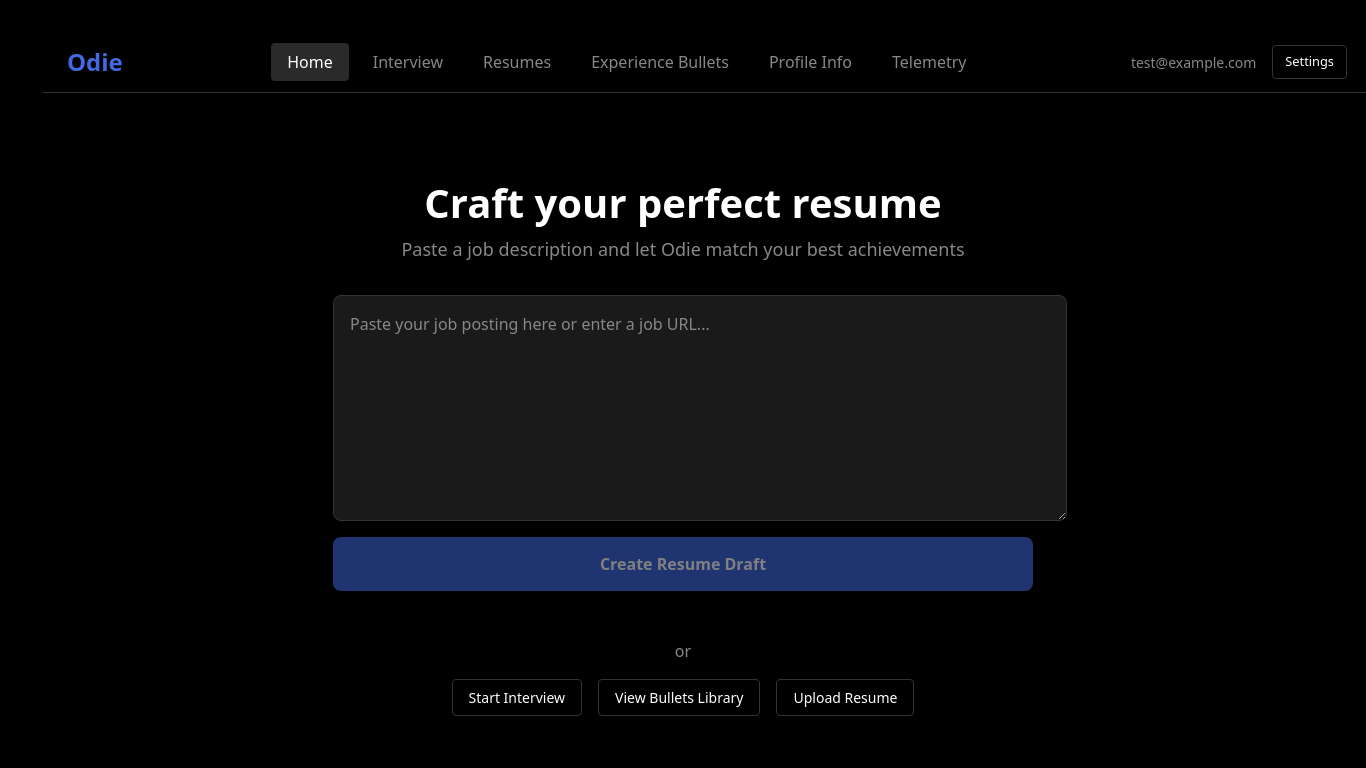
Test case: HomePage › shows error when URL fetch fails
The width and height of the screenshot is (1366, 768).
Step 1. Type "https://greenhouse.io/jobs/123" into the text box with test id "jd-input" → (700, 408), box [333, 294, 1067, 520]
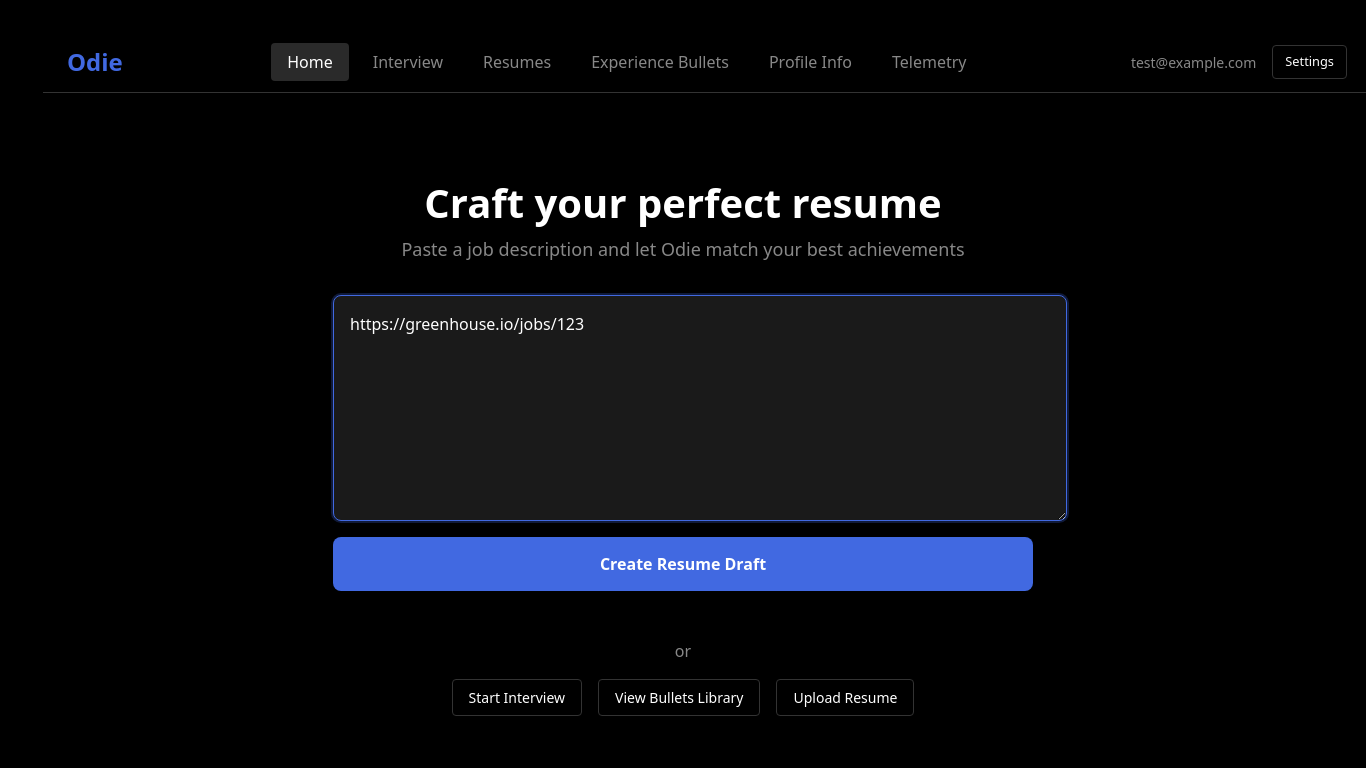
Step 2. Click the button with test id "jd-submit" → (683, 564), box [333, 536, 1033, 590]
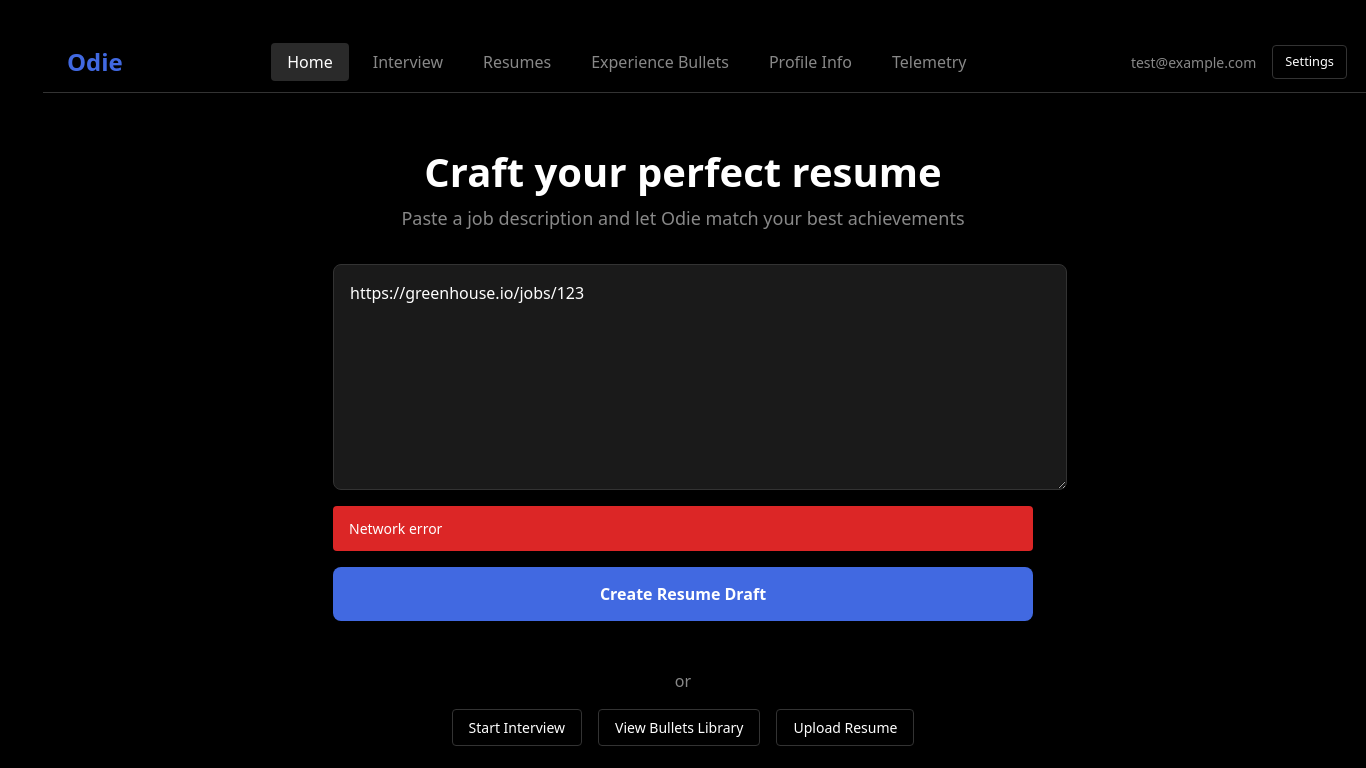
Now the text "Network error" is shown, box [333, 506, 1033, 551]
Now the text with test id "jd-error" reads "Network error", box [349, 519, 442, 538]
